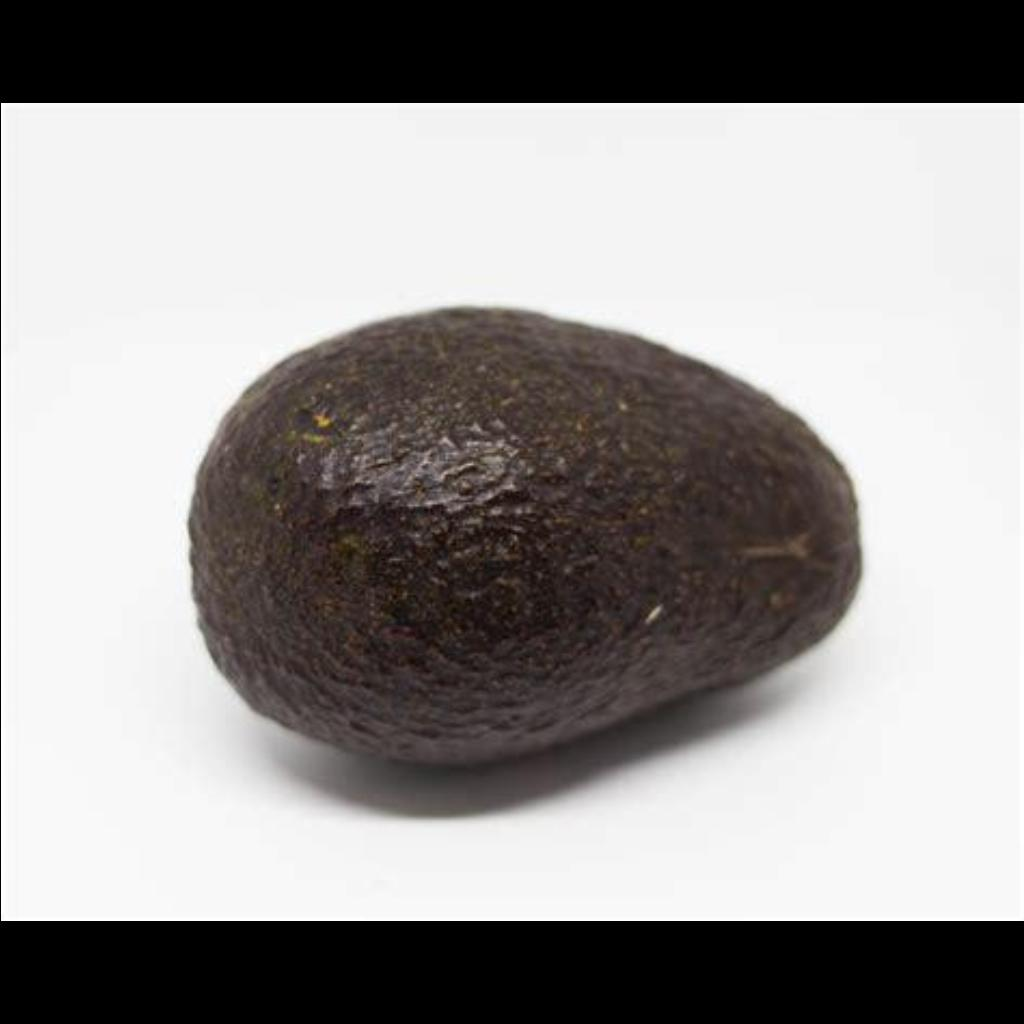Anthracnose: (176, 312, 886, 730)
